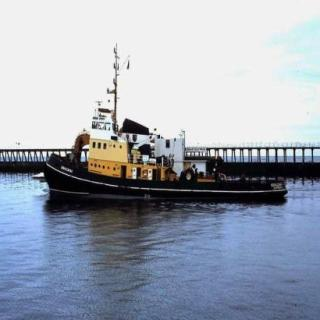Tug Boat: (45, 93, 302, 197)
